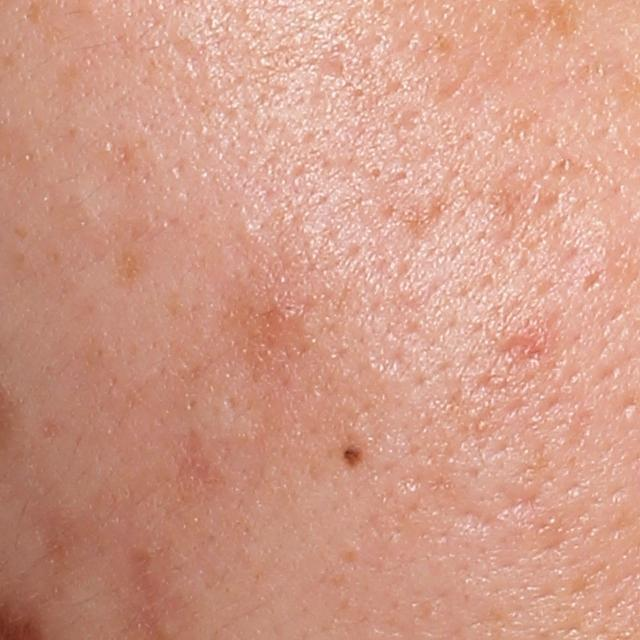comedo: (362, 160, 388, 186)
